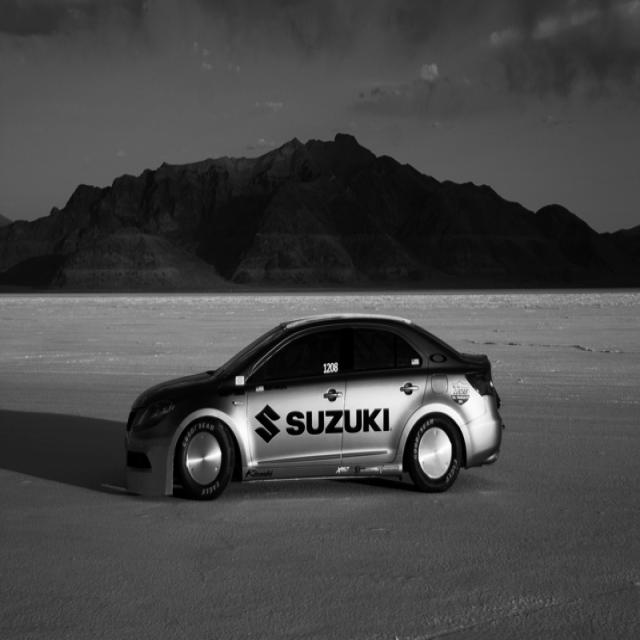car: (124, 313, 504, 499)
